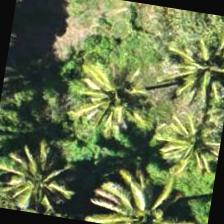Kelapa_Sawit: (58, 50, 161, 153), (142, 79, 223, 181), (152, 25, 223, 127), (0, 136, 87, 219), (88, 176, 186, 223)
